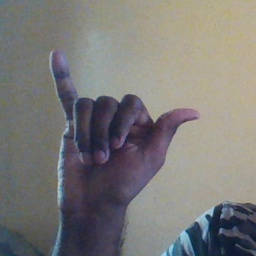J: (42, 48, 201, 195)
